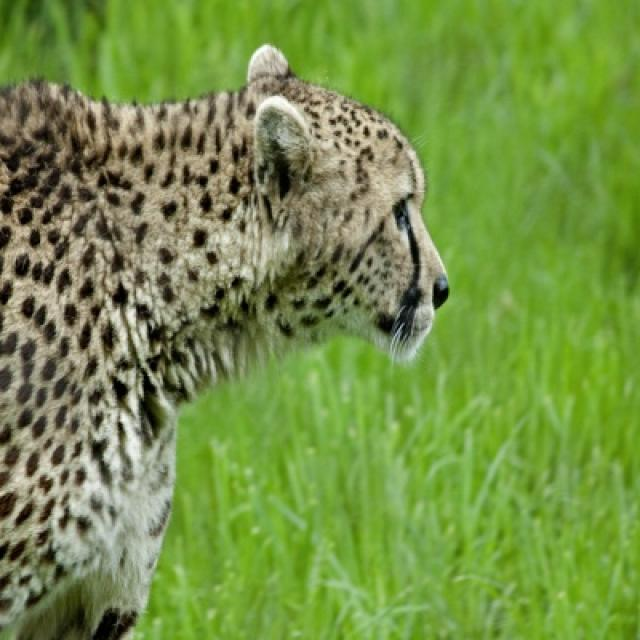Cheetah: (0, 43, 461, 637)
